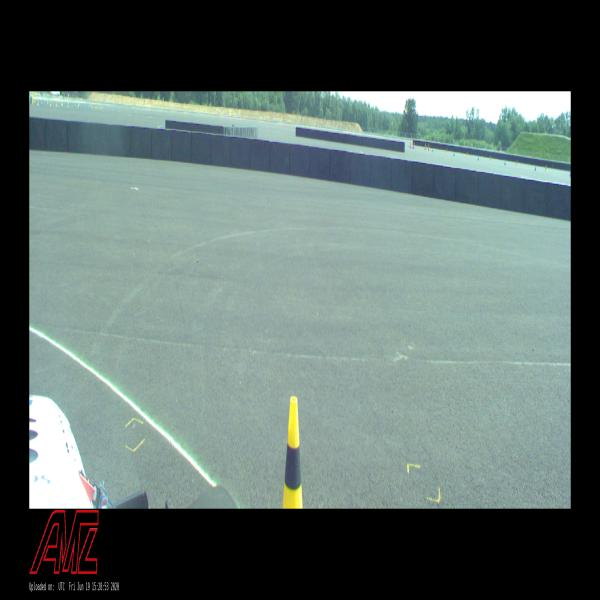yellow_cone: (283, 396, 303, 508)
